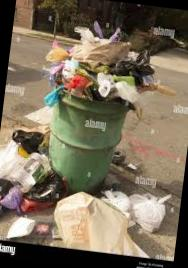trash: (36, 28, 155, 104), (36, 174, 136, 264), (0, 121, 73, 240), (96, 176, 174, 231)
trash_can_overflow: (0, 10, 184, 250)
